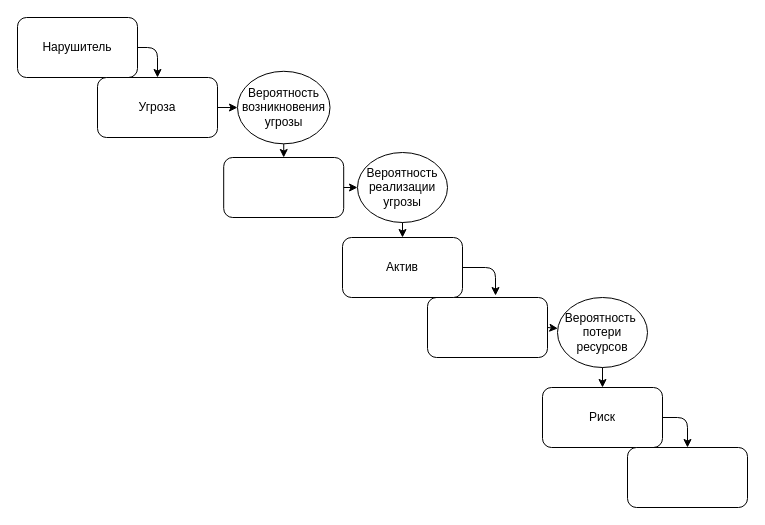
Image size: 765x525. Some labels were removed from this diagram. The shapes that lost their labels are listed below. From the top down, each one's centre as x and y in pixels, then its label:
pixel 283 187: Уязвимость
pixel 487 327: Оценка ущерба бизнес процессу
pixel 687 477: Итоговая оценка риска
